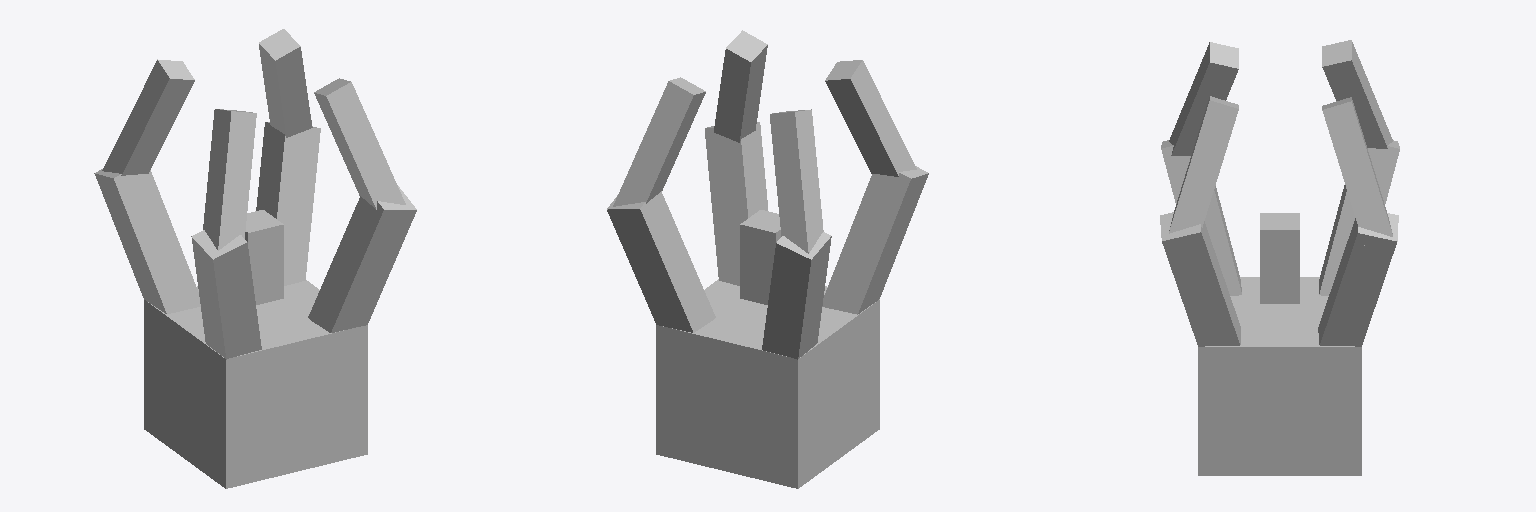
The model's file is infusiontable.obj.
3 views of the same model, side by side, from view 1: azimuth 30°, elevation 25°; view 2: azimuth 150°, elevation 25°; view 3: azimuth 270°, elevation 25° (orthographic).
Visible parts, largest first — view 1: Object_shape1; view 2: Object_shape1; view 3: Object_shape1.
Boxes of the visible parts, <box> form: Object_shape1: <box>94,29,416,488</box>; Object_shape1: <box>607,30,928,488</box>; Object_shape1: <box>1160,40,1399,475</box>.
Bounding box in the file's own units: 1.47 × 2.51 × 1.47.